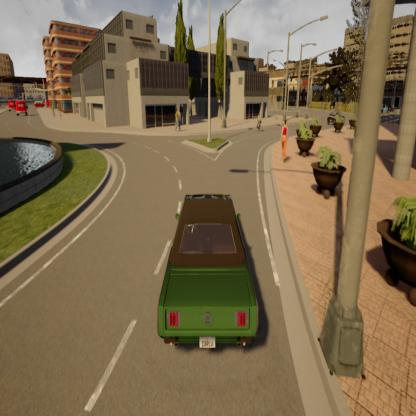Cars: (156, 191, 258, 351), (328, 111, 346, 127), (256, 114, 265, 132)
Pedestrian: (280, 116, 290, 164), (173, 108, 183, 133)
